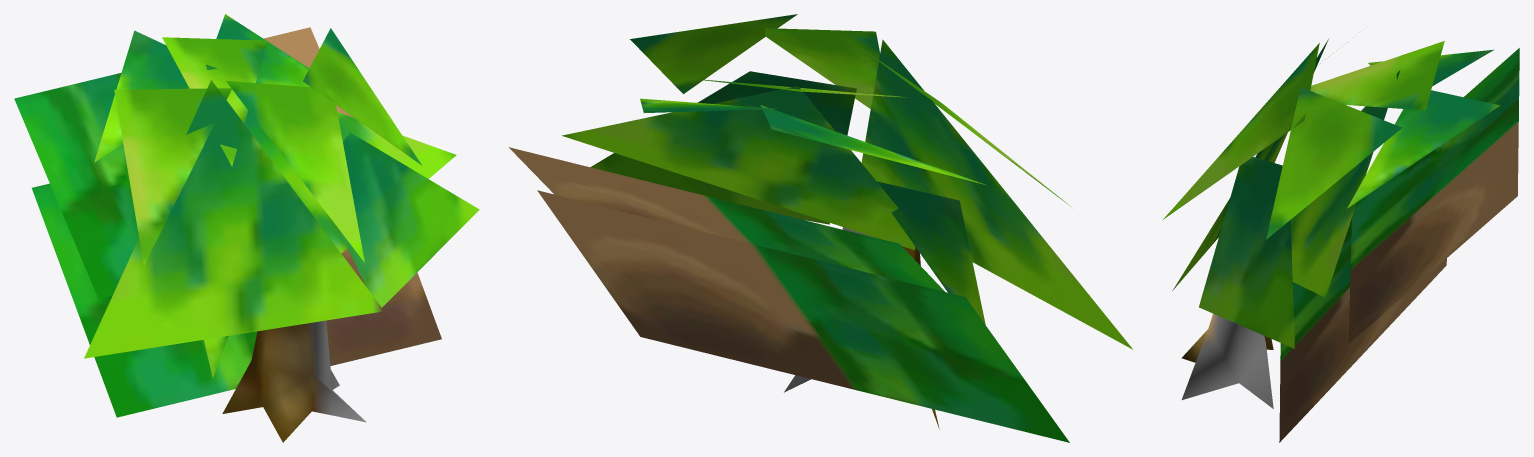
Rendered from fg_bushB_1.dae.
3 views of the same model, side by side, from view 1: azimuth 30°, elevation 25°; view 2: azimuth 150°, elevation 25°; view 3: azimuth 270°, elevation 25° (orthographic). The views are drawn at different scales.
Parts seen in each view (by area): view 1: fg_bushB_1; view 2: fg_bushB_1; view 3: fg_bushB_1.
Part boxes in pixels (box(x1,y1,x2,y2)): fg_bushB_1: box(14, 14, 479, 442); fg_bushB_1: box(508, 14, 1132, 442); fg_bushB_1: box(1163, 39, 1519, 442).
Size of the model in its own units: 34.76 by 25.18 by 25.46.
Materials: 1 (1 with a texture image).
